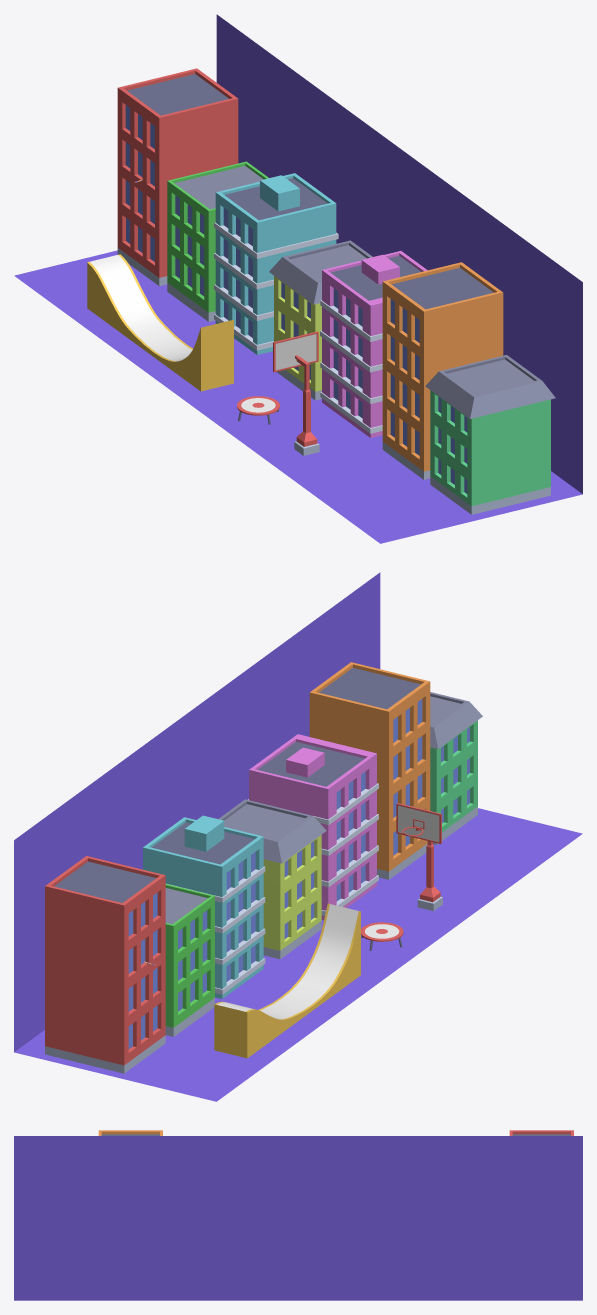
The model's file is City 1.fbx.
The picture shows the model from 3 angles, top to bottom: view 1: azimuth 30°, elevation 25°; view 2: azimuth 150°, elevation 25°; view 3: azimuth 270°, elevation 25°; orthographic projection. The views are drawn at different scales.
Parts seen in each view (by area): view 1: Plane.004, Cube.011, Cube.002, Cube.010, Cube.004, Cube.008, Cube, Cube.006, Cube.007, Ring, Glass, Cylinder.003; view 2: Plane.004, Cube.002, Cube.010, Cube.008, Cube.004, Cube.007, Cube, Cube.006, Cube.011, Ring, Glass, Cylinder.003; view 3: Plane.004, Cube.002, Cube.010.
Boxes of the visible parts, x1,y1,x2,y2 form: Plane.004: [14, 14, 582, 543]; Cube.011: [425, 355, 555, 514]; Cube.002: [117, 68, 238, 286]; Cube.010: [382, 262, 503, 479]; Cube.004: [214, 173, 338, 354]; Cube.008: [320, 251, 427, 437]; Cube: [87, 254, 233, 391]; Cube.006: [167, 161, 268, 321]; Cube.007: [269, 240, 372, 400]; Ring: [273, 331, 319, 455]; Glass: [275, 334, 316, 370]; Cylinder.003: [237, 396, 279, 424]; Plane.004: [14, 572, 582, 1101]; Cube.002: [45, 856, 165, 1073]; Cube.010: [309, 662, 430, 879]; Cube.008: [248, 734, 378, 920]; Cube.004: [143, 815, 265, 998]; Cube.007: [218, 799, 326, 959]; Cube: [214, 903, 360, 1058]; Cube.006: [165, 884, 214, 1036]; Cube.011: [430, 692, 482, 844]; Ring: [396, 803, 442, 911]; Glass: [398, 805, 439, 841]; Cylinder.003: [361, 922, 403, 950]; Plane.004: [14, 1136, 582, 1300]; Cube.002: [509, 1130, 573, 1135]; Cube.010: [98, 1130, 162, 1135].
Bounding box in the file's own units: 2864 × 2880 × 8973.
4 materials, 4 textured.
